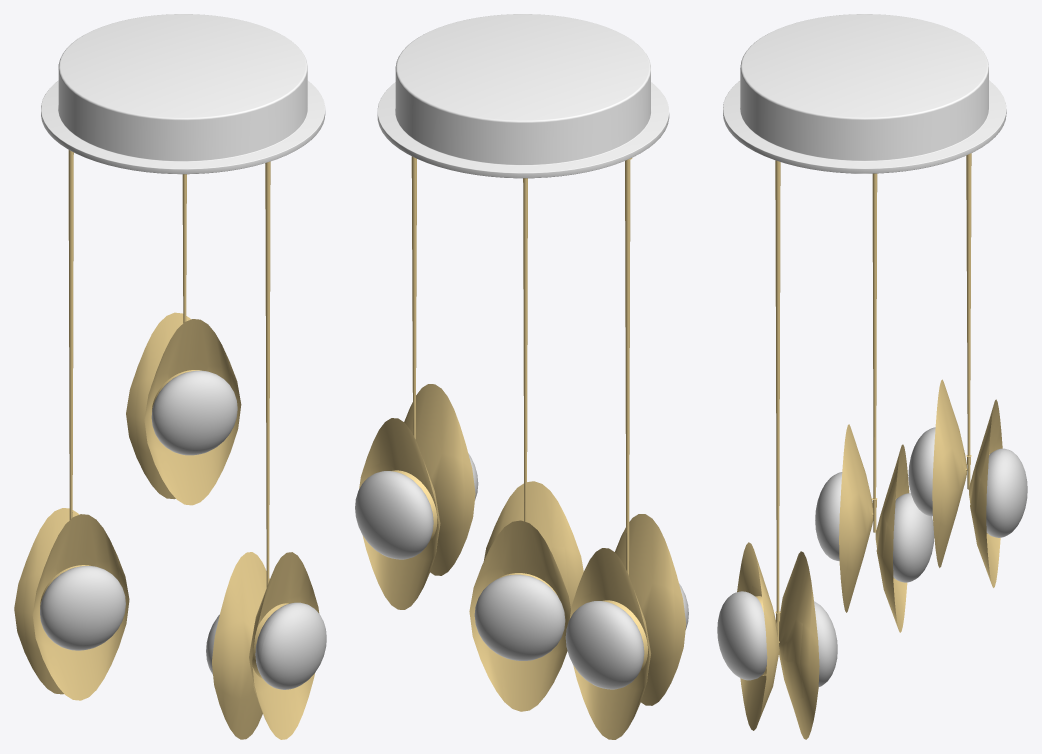
The model's file is pendant1.glb.
3 renders of one model, left to right at view 1: azimuth 30°, elevation 25°; view 2: azimuth 150°, elevation 25°; view 3: azimuth 270°, elevation 25°, orthographic. The views are drawn at different scales.
Parts seen in each view (by area): view 1: Hub, P1, P3, P2, Cables; view 2: Hub, P3, P2, P1, Cables; view 3: Hub, P1, P3, P2, Cables.
Part boxes in pixels (<box>): Hub: <box>41,14,325,174</box>; P1: <box>206,552,326,739</box>; P3: <box>126,312,241,505</box>; P2: <box>14,508,129,700</box>; Cables: <box>68,150,270,587</box>; Hub: <box>377,14,669,178</box>; P3: <box>355,384,478,609</box>; P2: <box>565,514,688,739</box>; P1: <box>469,481,583,711</box>; Cables: <box>411,156,632,575</box>; Hub: <box>723,14,1006,173</box>; P1: <box>717,542,837,739</box>; P3: <box>908,379,1027,587</box>; P2: <box>815,424,934,632</box>; Cables: <box>775,153,971,644</box>.
Bounding box in the file's own units: 0.2089 × 0.4734 × 0.2028.
7 materials, 4 textured.
